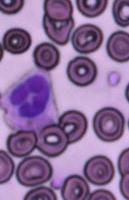N: (0, 68, 59, 132)
